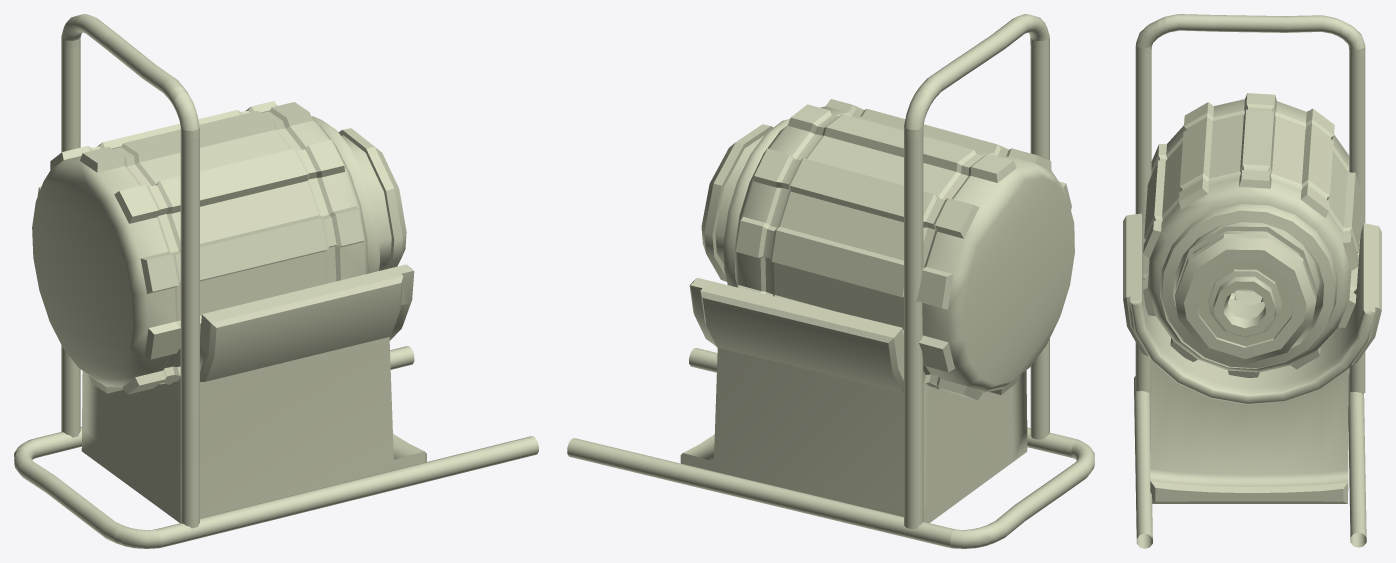
The model's file is CemenntBarrell.fbx.
3 views of the same model, side by side, from view 1: azimuth 30°, elevation 25°; view 2: azimuth 150°, elevation 25°; view 3: azimuth 270°, elevation 25° (orthographic). The views are drawn at different scales.
Visible parts, largest first — view 1: Cement_Barrel2; view 2: Cement_Barrel2; view 3: Cement_Barrel2.
Part boxes in pixels (x1,y1,x2,y2): Cement_Barrel2: [14, 14, 538, 548]; Cement_Barrel2: [567, 14, 1094, 548]; Cement_Barrel2: [1123, 14, 1381, 548].
Size of the model in its own units: 697 by 719 by 434.
